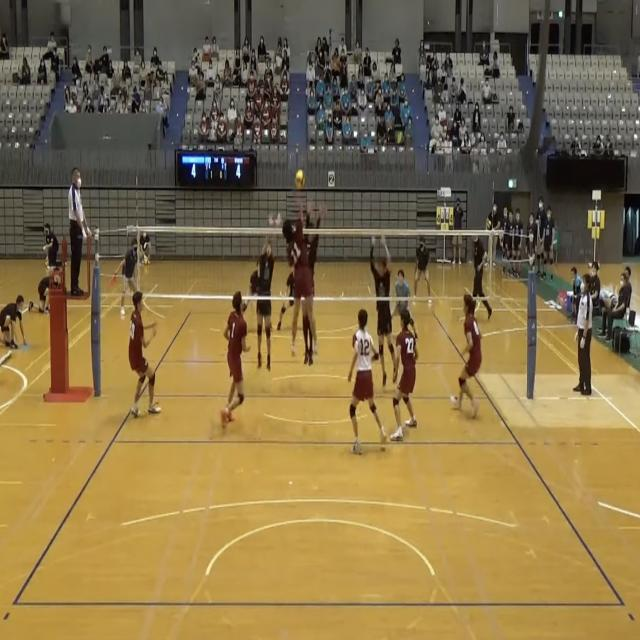spike: (281, 164, 323, 366)
